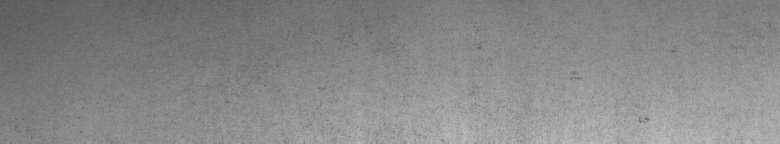ib: (570, 49, 679, 127)
